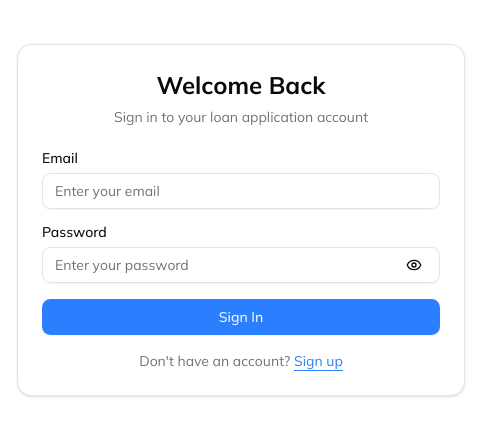
LoginPage › shows validation errors for invalid inputs
The image size is (483, 442).
Try to submit with empty fields
Click the button "Sign In".
click(241, 317)  # box [42, 299, 440, 335]
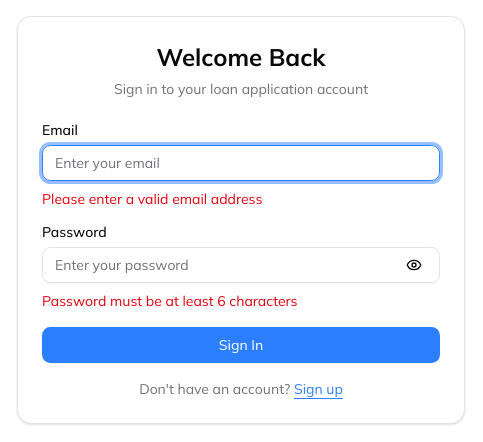
expect the text "Please enter a valid email address" is shown: met, box [42, 190, 262, 208]
expect the text "Password must be at least 6 characters" is shown: met, box [42, 292, 298, 310]
